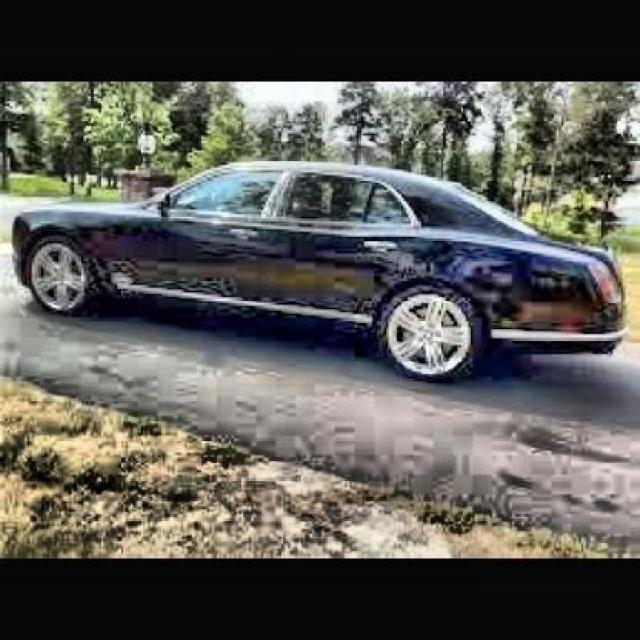blue: (18, 146, 640, 392)
